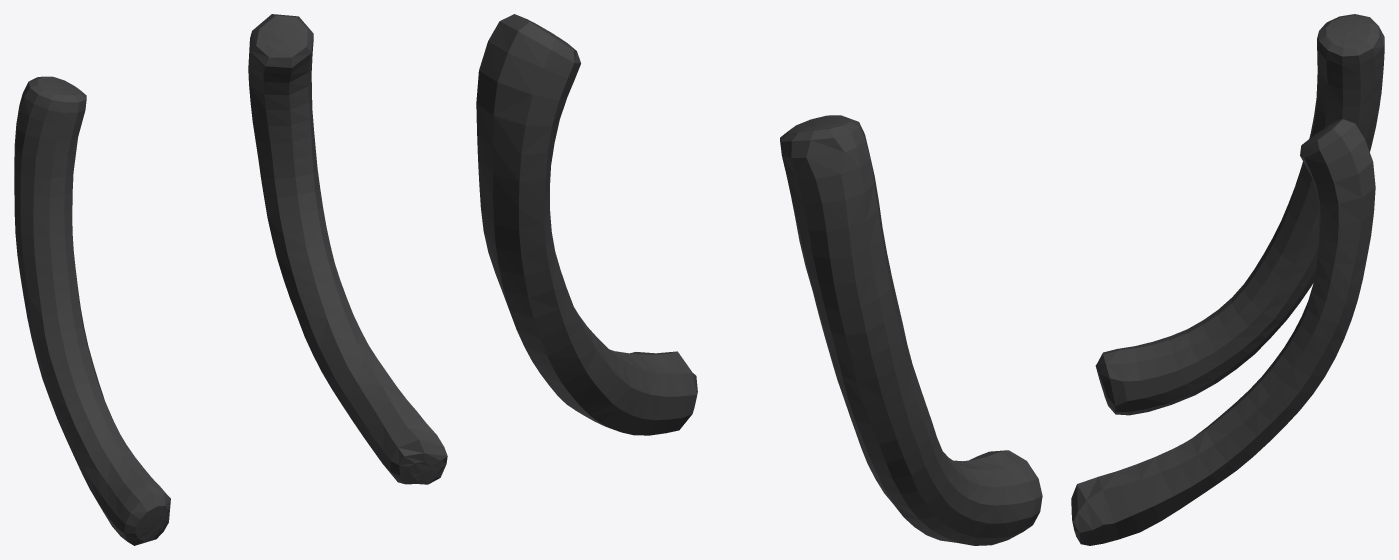
The model's file is Abaxial_ligaments.glb.
3 renders of one model, left to right at view 1: azimuth 30°, elevation 25°; view 2: azimuth 150°, elevation 25°; view 3: azimuth 270°, elevation 25°, orthographic. The views are drawn at different scales.
Visible parts, largest first — view 1: Abaxial_ligaments; view 2: Abaxial_ligaments; view 3: Abaxial_ligaments.
Part boxes in pixels (x1,y1,x2,y2): Abaxial_ligaments: [14, 14, 447, 545]; Abaxial_ligaments: [476, 14, 1042, 545]; Abaxial_ligaments: [1071, 14, 1384, 545].
Size of the model in its own units: 9.93 by 11.97 by 8.19.
Materials: 1 (1 with a texture image).
